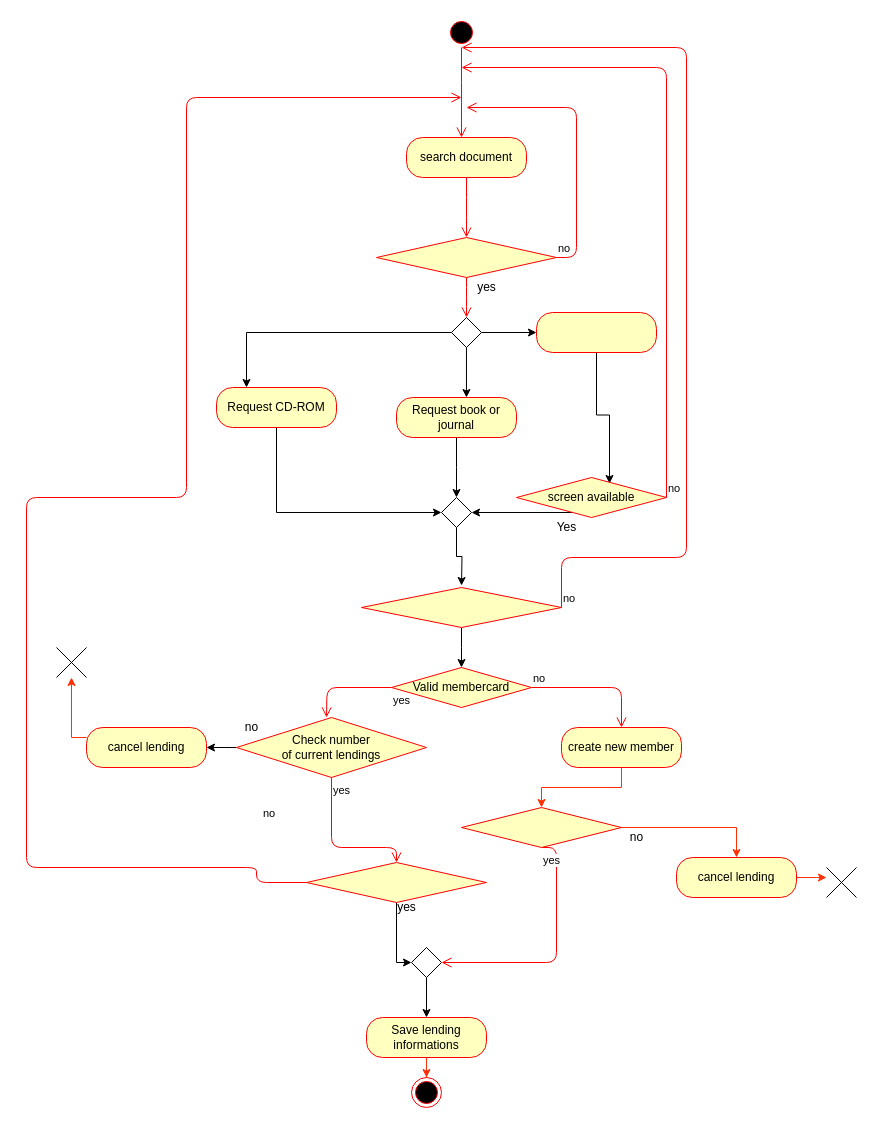
The diagram is 874 pixels wide and 1125 high, and some of its shapes have lost their labels. Here are the shapes that lost their labels. From the top down, the centre of each, then its label:
At (x=466, y=257): "existing document".
At (x=596, y=332): "Request microfilm".
At (x=461, y=607): "document available".
At (x=541, y=827): "Pay membership".
At (x=396, y=882): "Pay deposit if CD-ROM".
